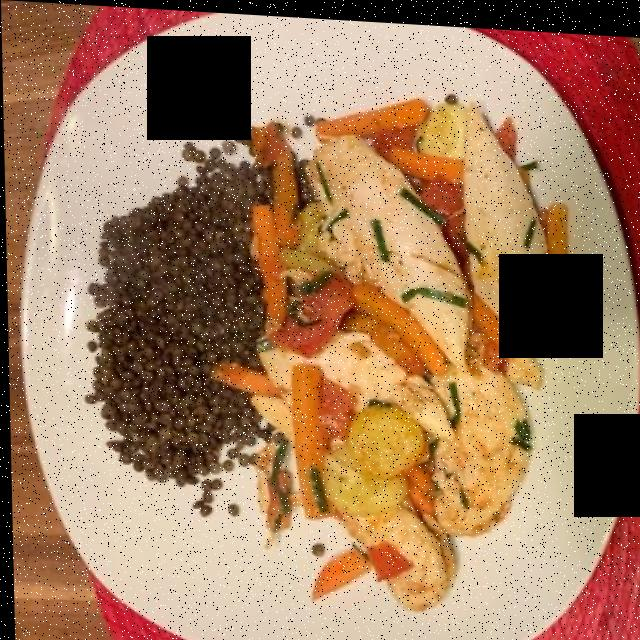chicken-breast: (252, 93, 549, 632)
mixed-vegetables: (256, 105, 571, 585)
tomato-raw: (279, 121, 466, 345)
